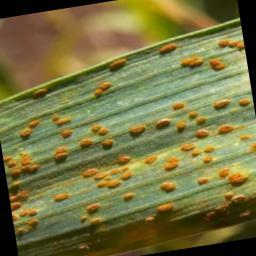Wheat: (9, 104, 251, 206), (182, 34, 245, 76)
